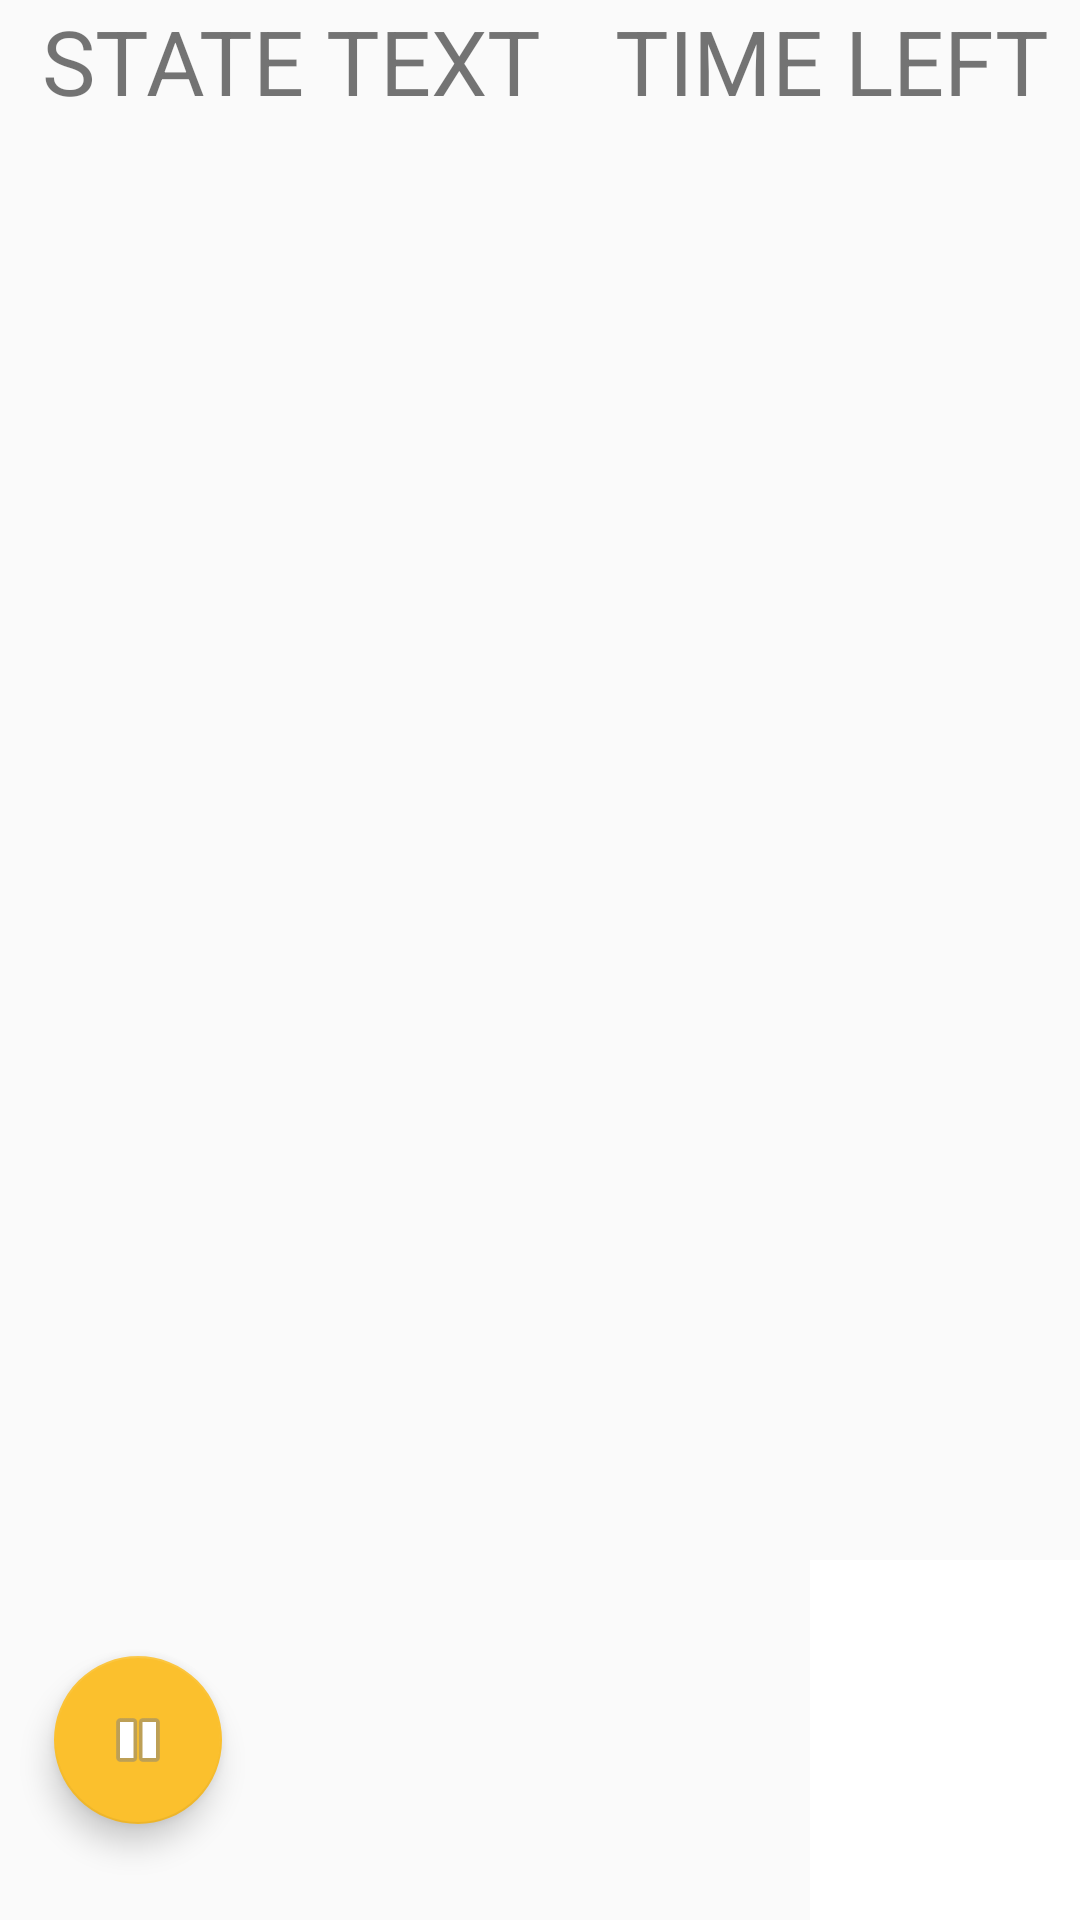

Where icons sit on this 1080 x 1920 app screen, as Rect(x1, y1, x2, y2):
pause: Rect(54, 1656, 222, 1824)
